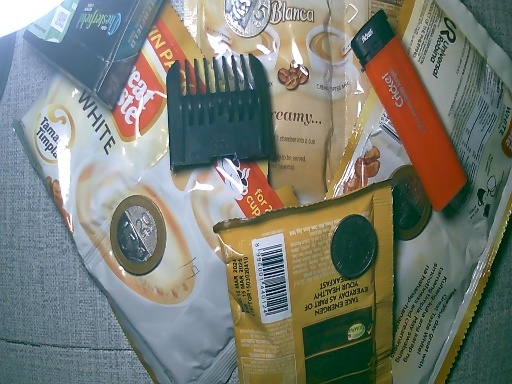cardboard: (13, 1, 167, 103)
metal: (111, 193, 169, 277), (385, 166, 433, 240), (331, 215, 379, 281), (222, 1, 270, 37)
plastic: (16, 6, 246, 375), (397, 1, 512, 384), (216, 181, 398, 384), (274, 1, 404, 202)
trash: (353, 13, 468, 214), (163, 45, 286, 170)
